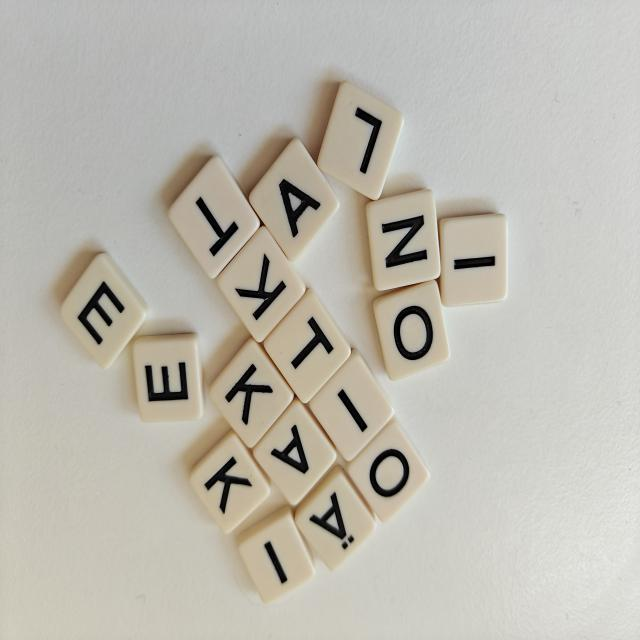a: (249, 138, 339, 261), (253, 398, 336, 505)
a_dot: (295, 465, 376, 570)
e: (61, 253, 148, 369), (133, 333, 204, 422)
i: (309, 349, 394, 461), (239, 506, 314, 604), (439, 214, 507, 307)
k: (218, 226, 305, 342), (209, 338, 294, 448), (190, 430, 270, 533)
l: (318, 82, 403, 199)
n: (366, 190, 440, 291)
o: (347, 418, 429, 521), (373, 281, 449, 380)
t: (169, 156, 260, 278), (264, 290, 351, 403)
